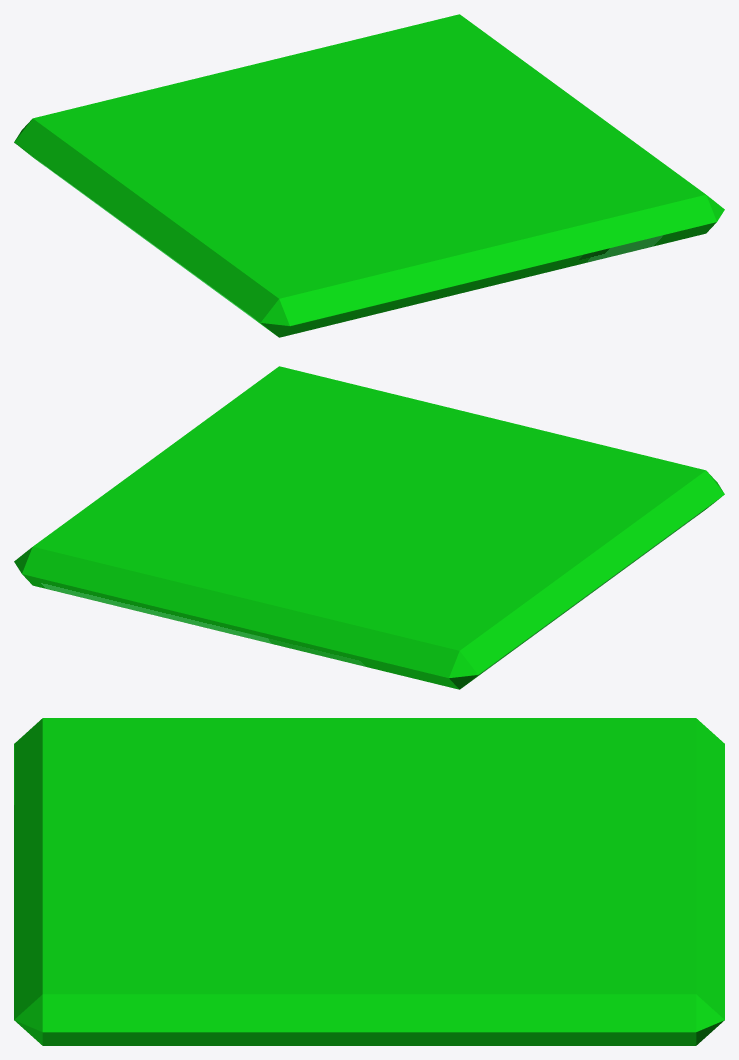
File: GrassTile.glb
3 renders of one model, top to bottom at view 1: azimuth 30°, elevation 25°; view 2: azimuth 150°, elevation 25°; view 3: azimuth 270°, elevation 25°, orthographic. The views are drawn at different scales.
Visible parts, largest first — view 1: Plane; view 2: Plane; view 3: Plane.
Part boxes in pixels (<box>): Plane: <box>14,14,724,337</box>; Plane: <box>14,366,724,689</box>; Plane: <box>14,718,724,1045</box>.
Size of the model in its own units: 2 by 0.1603 by 2.
1 material, 1 textured.
